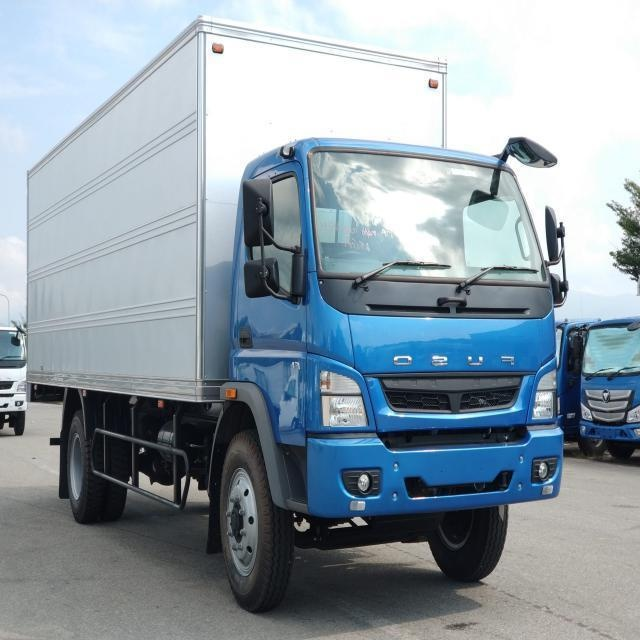Truck: (24, 15, 558, 615)
